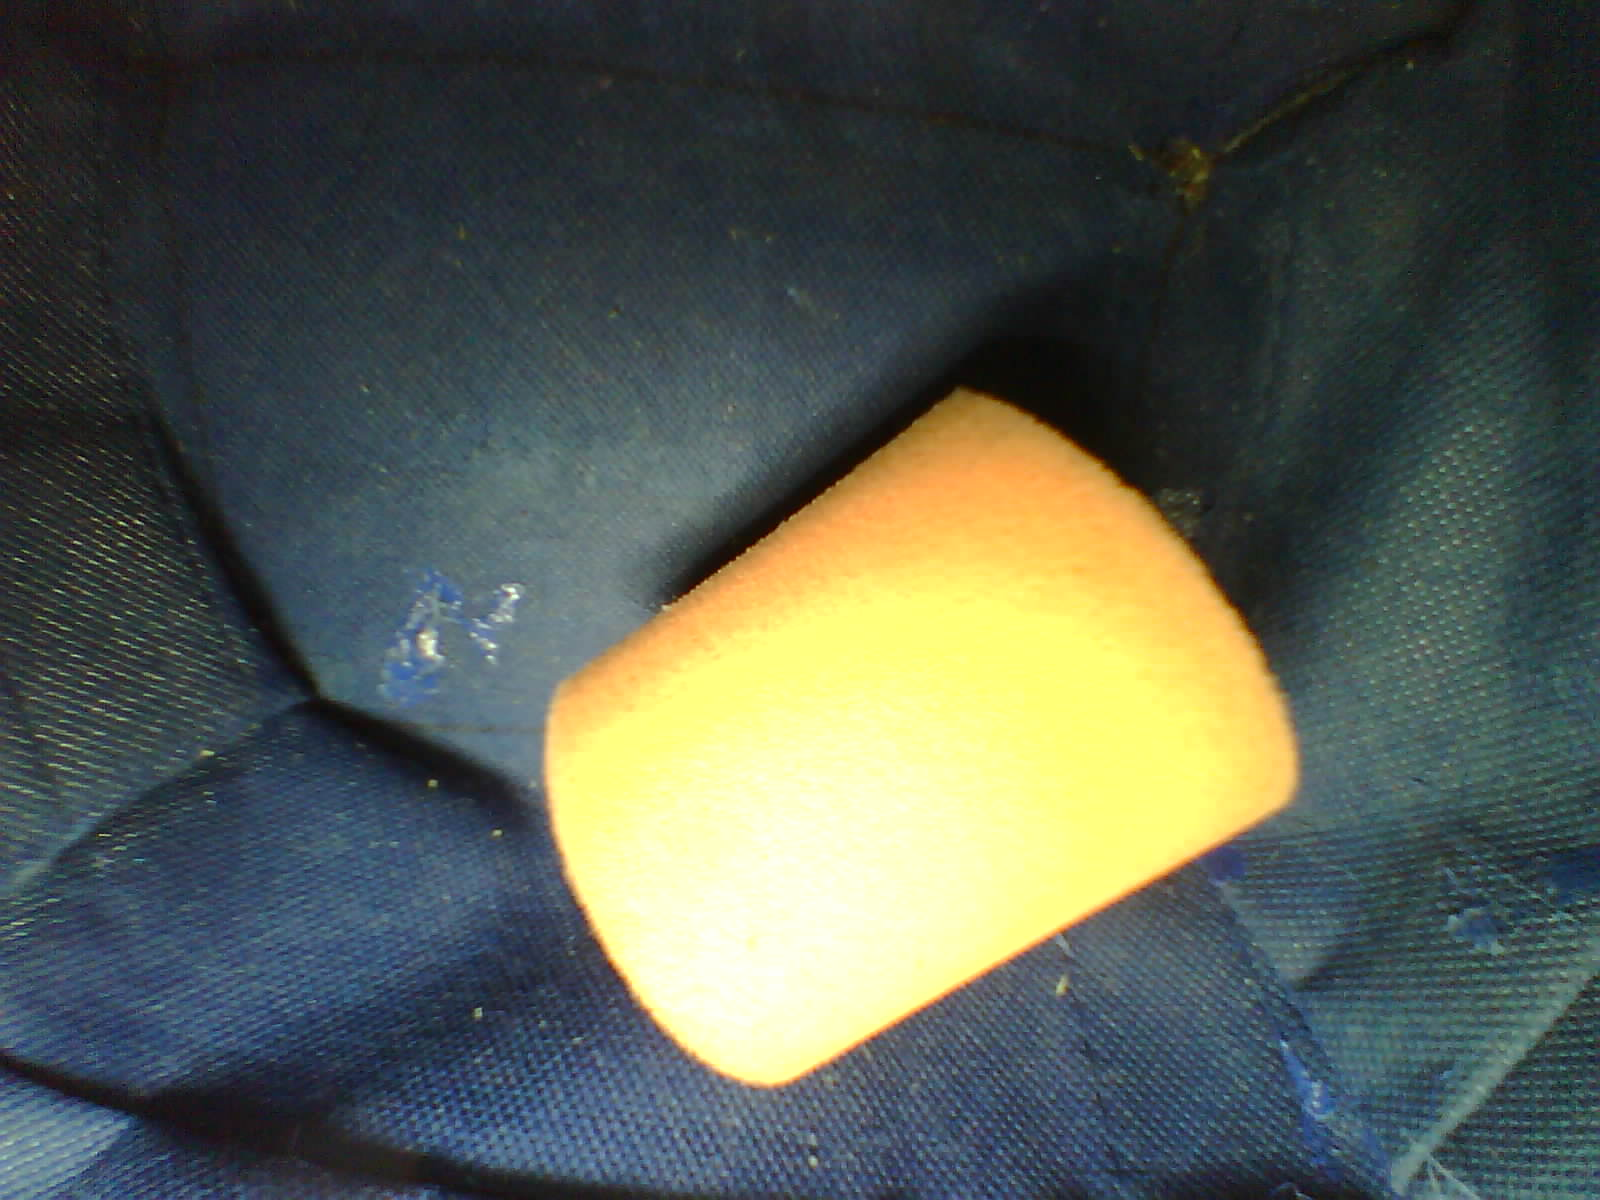cylinder-soft: (519, 376, 1317, 1112)
